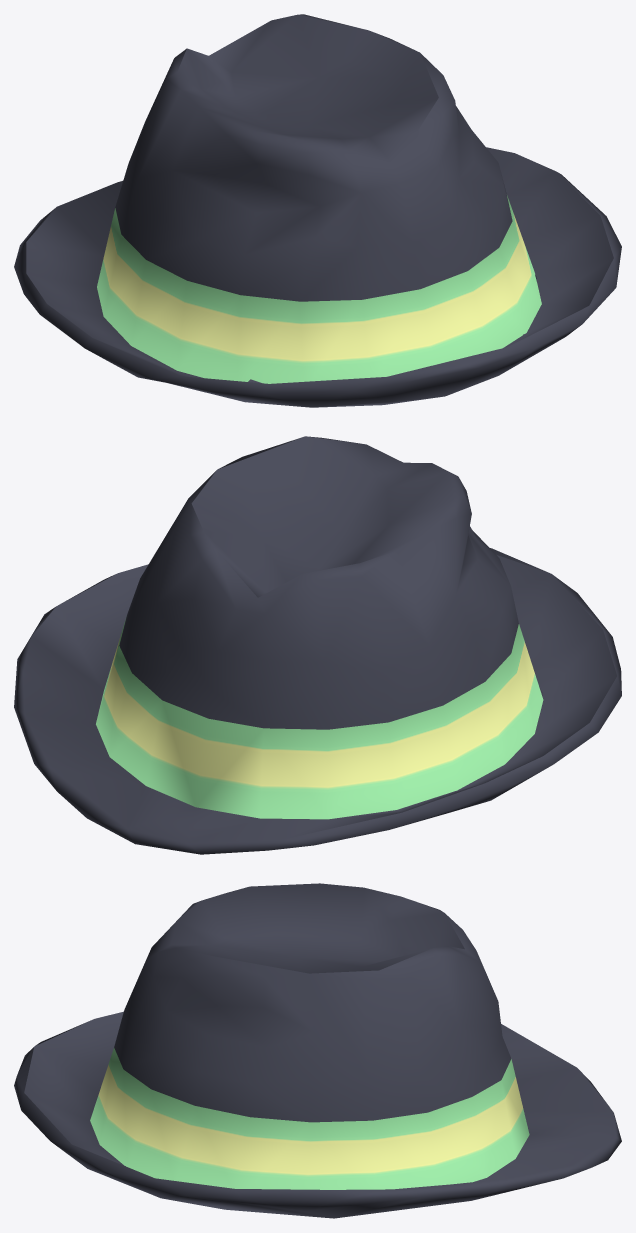
Rendered from FujiKisekiHatGround.fbx.
3 renders of one model, top to bottom at view 1: azimuth 30°, elevation 25°; view 2: azimuth 150°, elevation 25°; view 3: azimuth 270°, elevation 25°, orthographic. The views are drawn at different scales.
Parts seen in each view (by area): view 1: M_Hair.002; view 2: M_Hair.002; view 3: M_Hair.002.
Boxes of the visible parts, x1,y1,x2,y2 form: M_Hair.002: (14,14,621,407); M_Hair.002: (14,436,621,854); M_Hair.002: (14,883,621,1218).
Bounding box in the file's own units: 0.1725 × 0.0766 × 0.1928.
